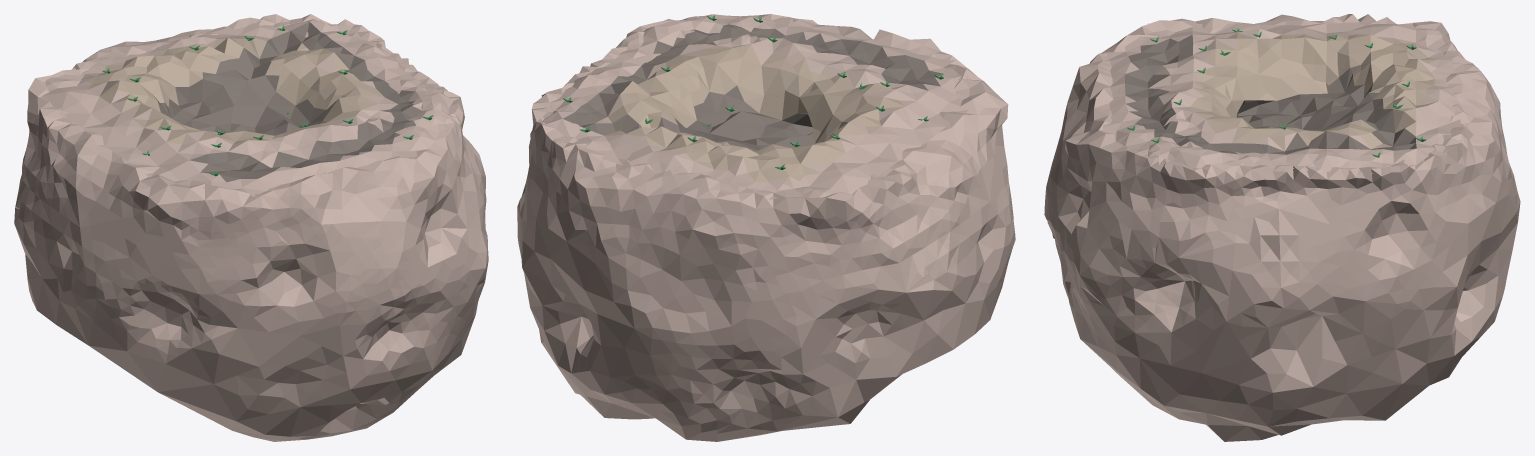
Rendered from Moon.glb.
3 renders of one model, left to right at view 1: azimuth 30°, elevation 25°; view 2: azimuth 150°, elevation 25°; view 3: azimuth 270°, elevation 25°, orthographic. The views are drawn at different scales.
Parts seen in each view (by area): view 1: Icosphere, Plane; view 2: Icosphere, Plane; view 3: Icosphere, Plane.
Part boxes in pixels (x1,y1,x2,y2): Icosphere: (14, 14, 488, 441); Plane: (41, 18, 455, 196); Icosphere: (517, 14, 1015, 441); Plane: (540, 14, 992, 199); Icosphere: (1044, 14, 1520, 441); Plane: (1103, 23, 1460, 174).
Size of the model in its own units: 46.88 by 35.03 by 47.3.
